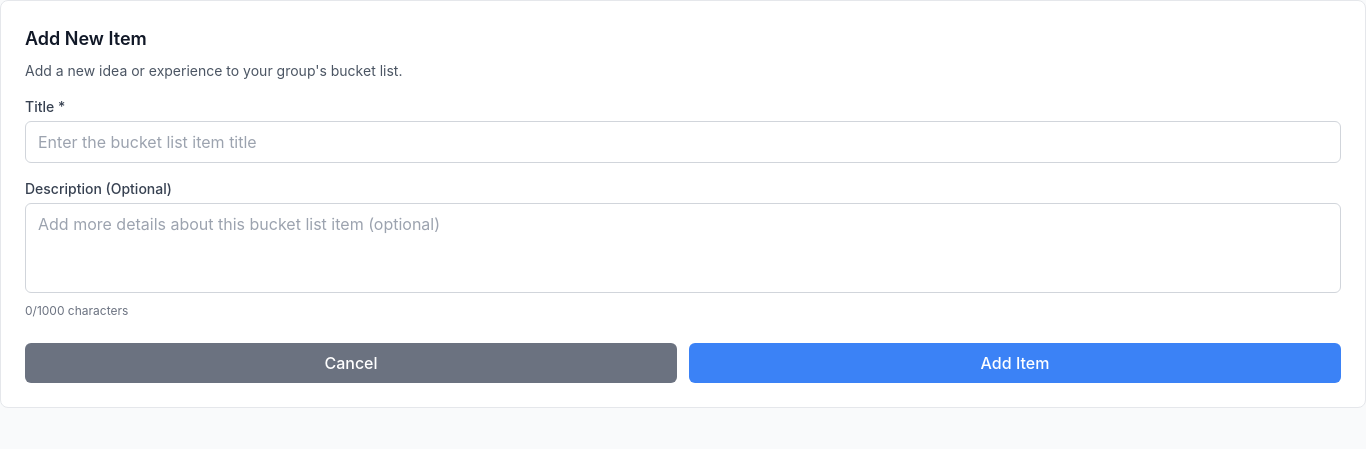
it: AddItemForm › shows validation error when title is empty
The image size is (1366, 449).
Click the button "Add Item" at (1015, 363), box x1=689 y1=343 x2=1341 y2=383
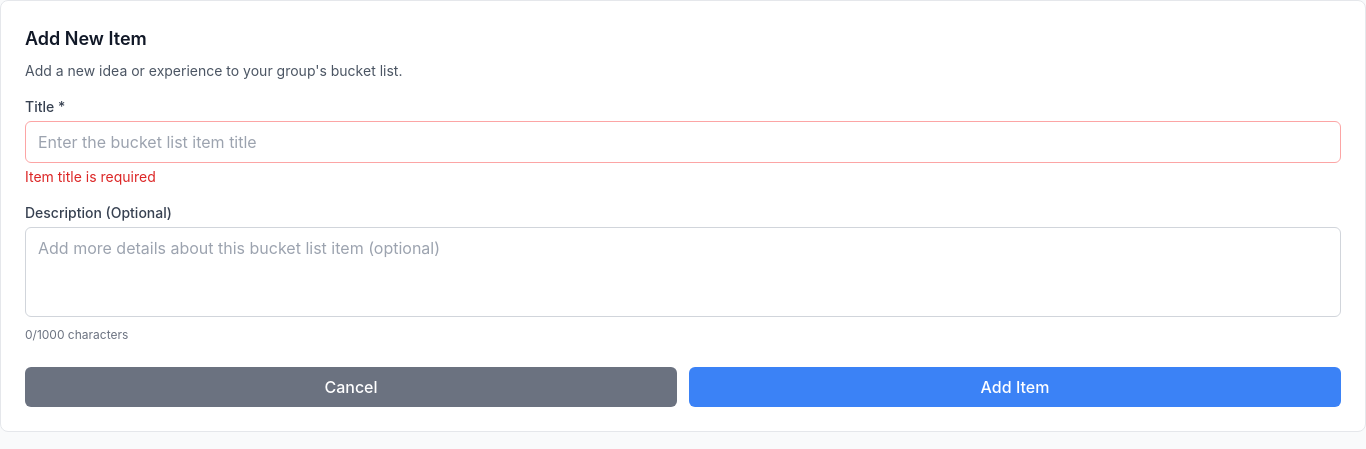
Result: the text "Item title is required" is shown at x1=25 y1=168 x2=156 y2=185
